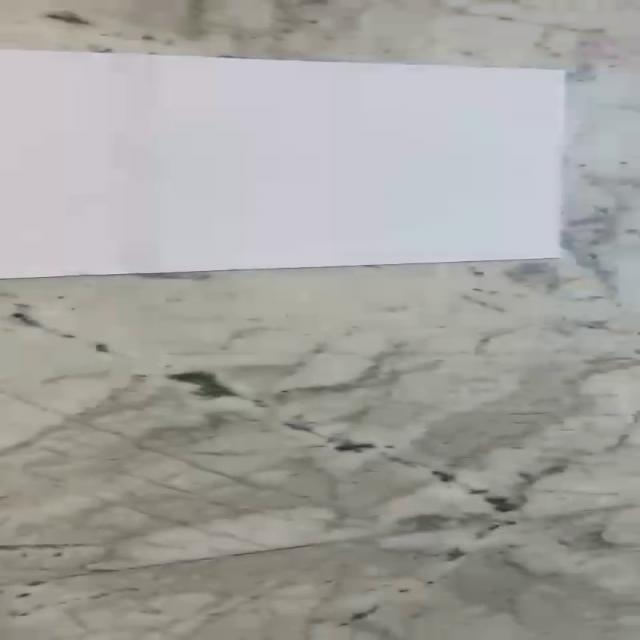road: (0, 48, 567, 278)
